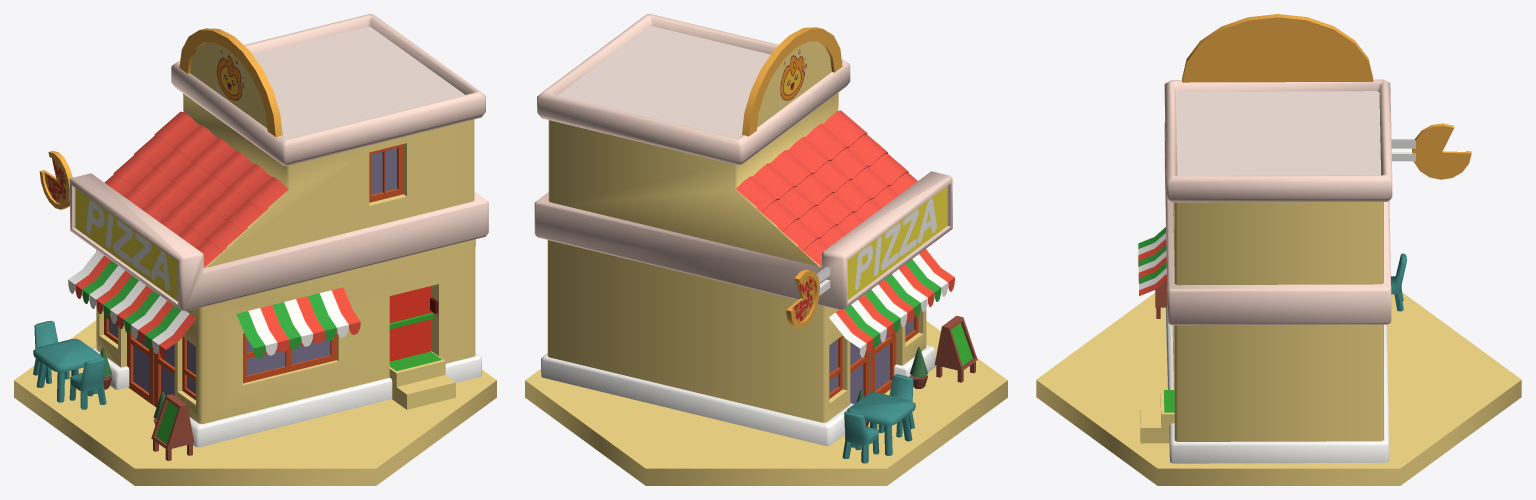
File: HousePizza.fbx
3 views of the same model, side by side, from view 1: azimuth 30°, elevation 25°; view 2: azimuth 150°, elevation 25°; view 3: azimuth 270°, elevation 25° (orthographic).
Visible parts, largest first — view 1: HousePizza; view 2: HousePizza; view 3: HousePizza.
Boxes of the visible parts, x1,y1,x2,y2 form: HousePizza: (14, 14, 496, 485); HousePizza: (525, 14, 1007, 485); HousePizza: (1036, 14, 1521, 485).
Bounding box in the file's own units: 382 × 370 × 441.
1 material, 1 textured.
